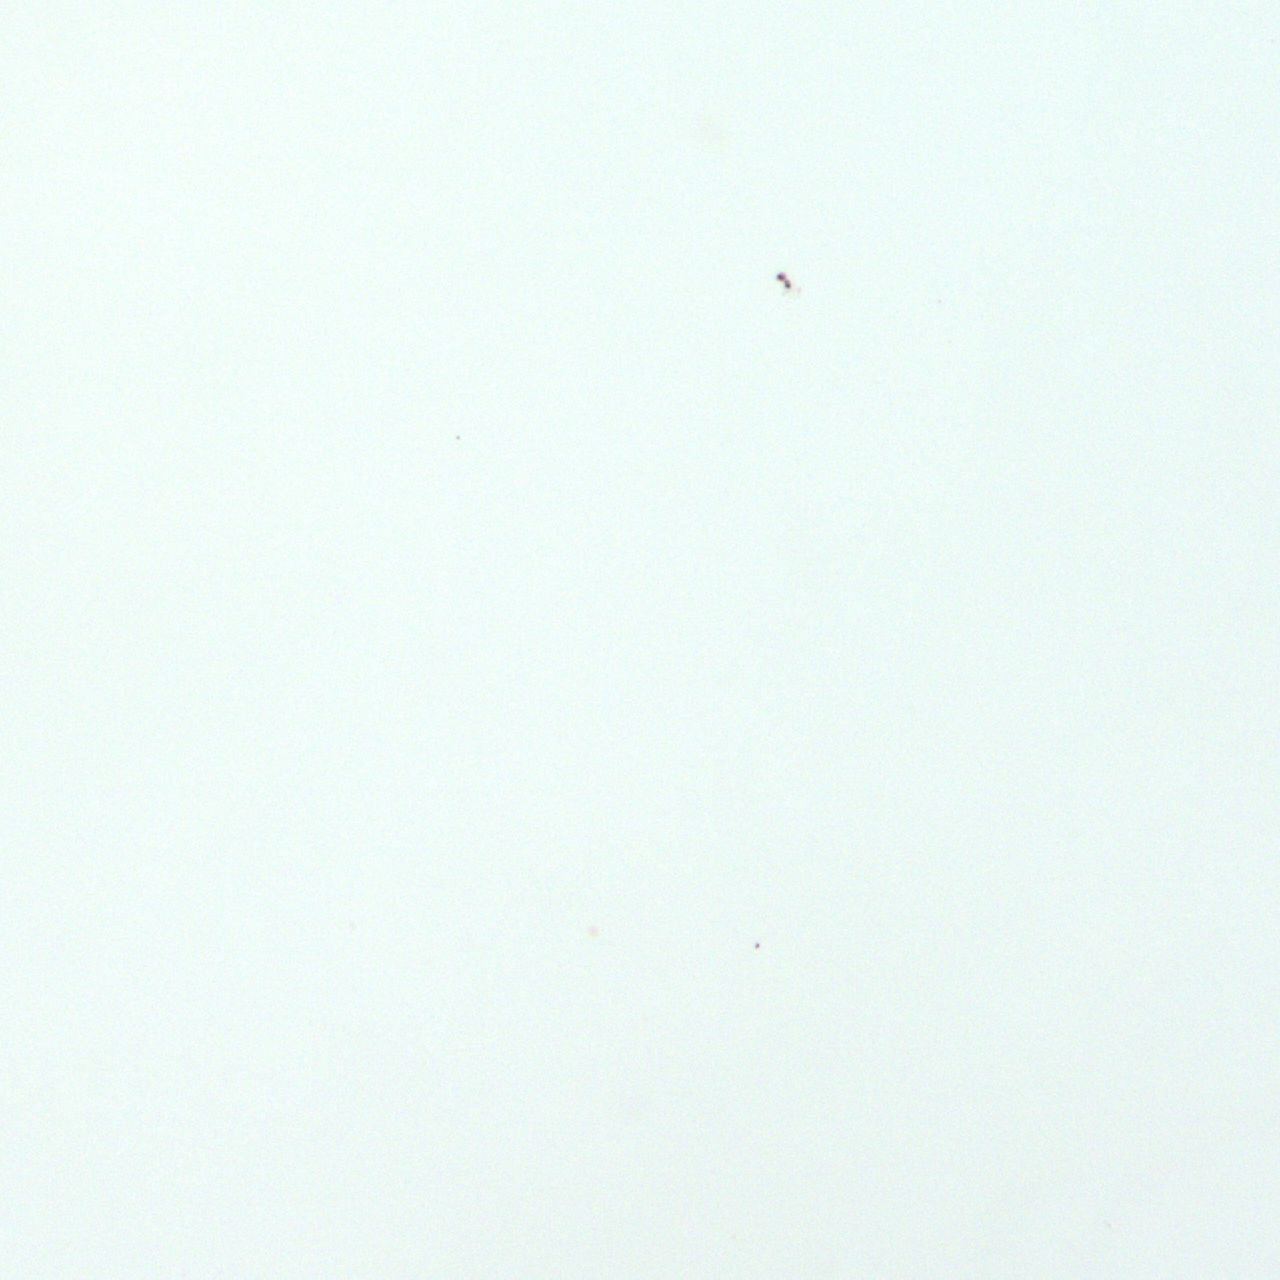dust: (774, 271, 787, 280), (783, 280, 794, 290), (754, 942, 760, 949)
